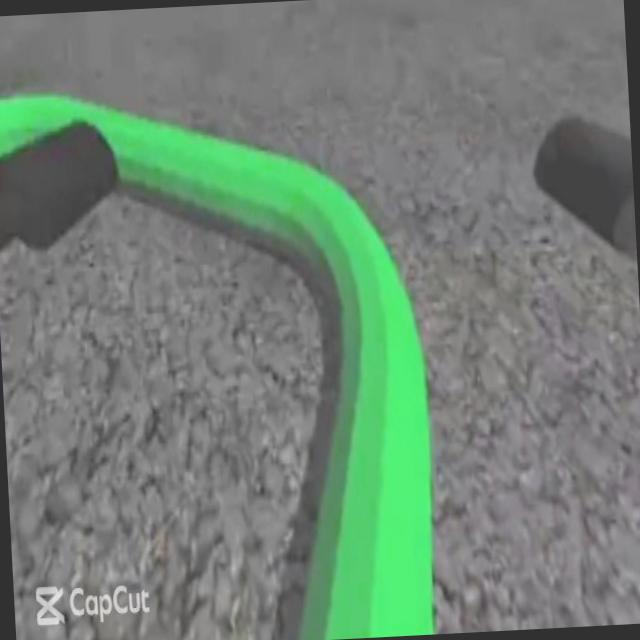gas: (263, 144, 442, 640), (130, 100, 412, 314)
